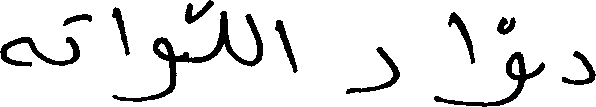ا: (451, 10, 474, 70), (275, 18, 297, 73), (112, 5, 128, 59)
ت: (61, 11, 90, 66)
د: (346, 45, 399, 95), (562, 49, 594, 85)
ل: (244, 12, 262, 67), (217, 8, 228, 54)
ه: (0, 34, 35, 66)
و: (472, 15, 524, 105), (137, 35, 173, 102)
